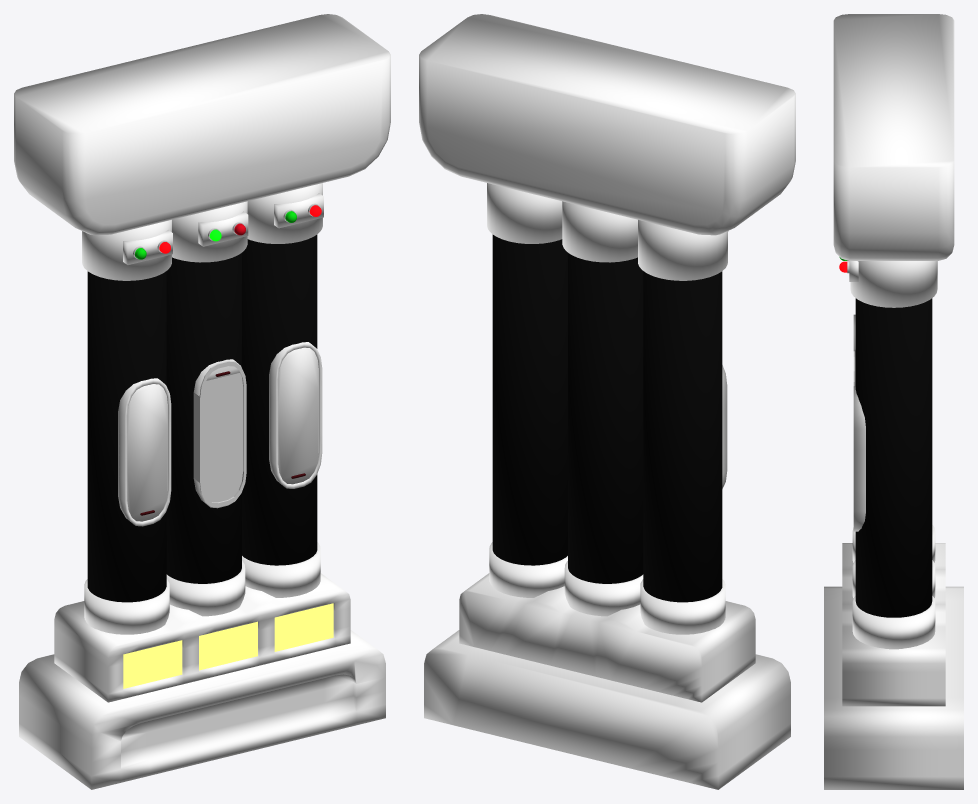
Rendered from Deliverytubes.glb.
The picture shows the model from 3 angles, left to right: view 1: azimuth 30°, elevation 25°; view 2: azimuth 150°, elevation 25°; view 3: azimuth 270°, elevation 25°; orthographic projection. The views are drawn at different scales.
Parts seen in each view (by area): view 1: Cube.002, Cube.001, Circle, Circle.002, Circle.001, Cube, Cube.007, Cube.011, Cube.014, Cylinder.001, Cylinder, Cylinder.002 (+8 smaller); view 2: Cube.002, Cube.001, Circle, Circle.002, Circle.001, Cube, Cylinder.001, Cylinder, Cylinder.002, Cylinder.009, Cylinder.011, Cylinder.010 (+1 smaller); view 3: Cube.002, Circle.002, Cube.001, Cube, Cylinder.002, Cylinder.011, Cube.013, Cylinder.010.
Boxes of the visible parts, left/top/right/bottom form: Cube.002: left=14, top=14, right=390, bottom=235; Cube.001: left=19, top=630, right=385, bottom=789; Circle: left=87, top=271, right=166, bottom=602; Circle.002: left=242, top=234, right=317, bottom=565; Circle.001: left=166, top=253, right=241, bottom=583; Cube: left=54, top=573, right=350, bottom=702; Cube.007: left=193, top=361, right=246, bottom=507; Cube.011: left=127, top=384, right=167, bottom=521; Cube.014: left=278, top=347, right=318, bottom=484; Cylinder.001: left=82, top=220, right=172, bottom=280; Cylinder: left=172, top=201, right=248, bottom=262; Cylinder.002: left=247, top=183, right=323, bottom=243; Cube.002: left=419, top=14, right=795, bottom=235; Cube.001: left=424, top=630, right=790, bottom=789; Circle: left=643, top=271, right=722, bottom=602; Circle.002: left=492, top=234, right=567, bottom=565; Circle.001: left=568, top=253, right=643, bottom=583; Cube: left=459, top=573, right=755, bottom=702; Cylinder.001: left=638, top=220, right=728, bottom=280; Cylinder: left=562, top=201, right=637, bottom=262; Cylinder.002: left=487, top=183, right=562, bottom=243; Cylinder.009: left=640, top=579, right=725, bottom=634; Cylinder.011: left=489, top=542, right=567, bottom=597; Cylinder.010: left=564, top=561, right=643, bottom=616; Cube.002: left=833, top=14, right=954, bottom=260; Circle.002: left=855, top=298, right=932, bottom=617; Cube.001: left=824, top=586, right=963, bottom=789; Cube: left=842, top=543, right=945, bottom=706; Cylinder.002: left=849, top=261, right=937, bottom=307; Cylinder.011: left=852, top=596, right=935, bottom=649; Cube.013: left=853, top=386, right=865, bottom=531; Cylinder.010: left=852, top=560, right=935, bottom=597.
Size of the model in its own units: 9.51 by 18.2 by 3.66.
12 materials, 1 textured.
